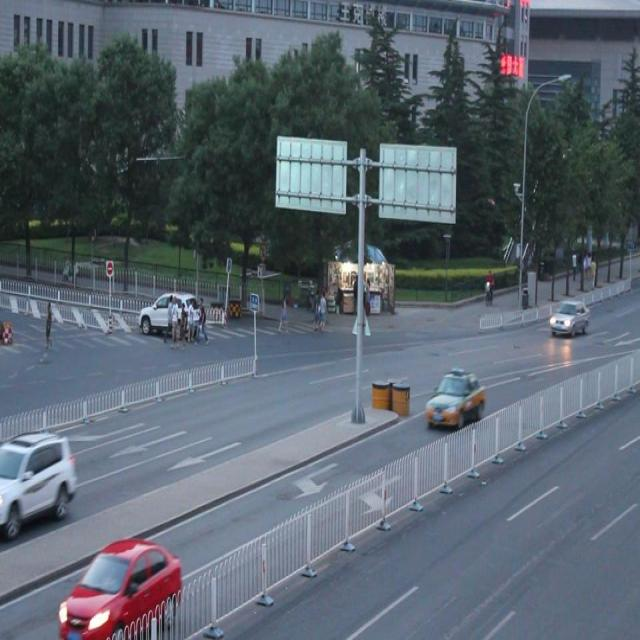car: (56, 533, 184, 640), (1, 425, 75, 534), (424, 369, 485, 429), (138, 290, 202, 340), (547, 296, 588, 335)
